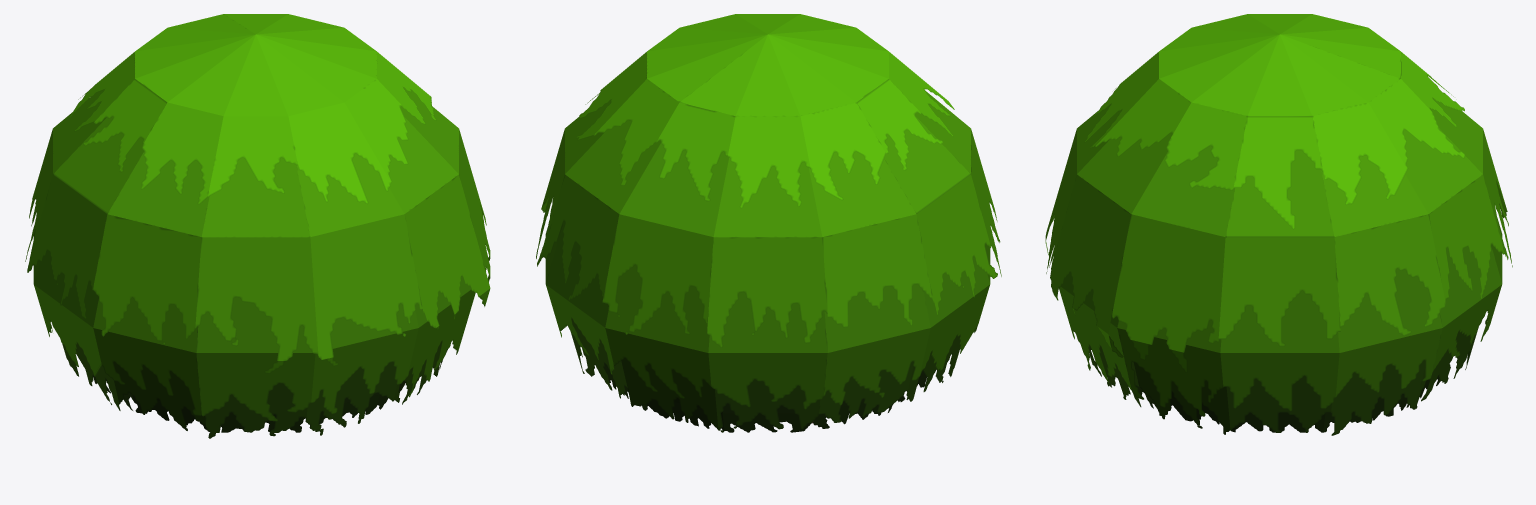
The model's file is Bush Bare.fbx.
3 views of the same model, side by side, from view 1: azimuth 30°, elevation 25°; view 2: azimuth 150°, elevation 25°; view 3: azimuth 270°, elevation 25° (orthographic).
Visible parts, largest first — view 1: sphere; view 2: sphere; view 3: sphere.
Boxes of the visible parts, left/top/right/bottom form: sphere: left=25, top=14, right=490, bottom=438; sphere: left=536, top=14, right=1001, bottom=432; sphere: left=1045, top=14, right=1512, bottom=435.
Bounding box in the file's own units: 124 × 105 × 124.
1 material, 1 textured.
